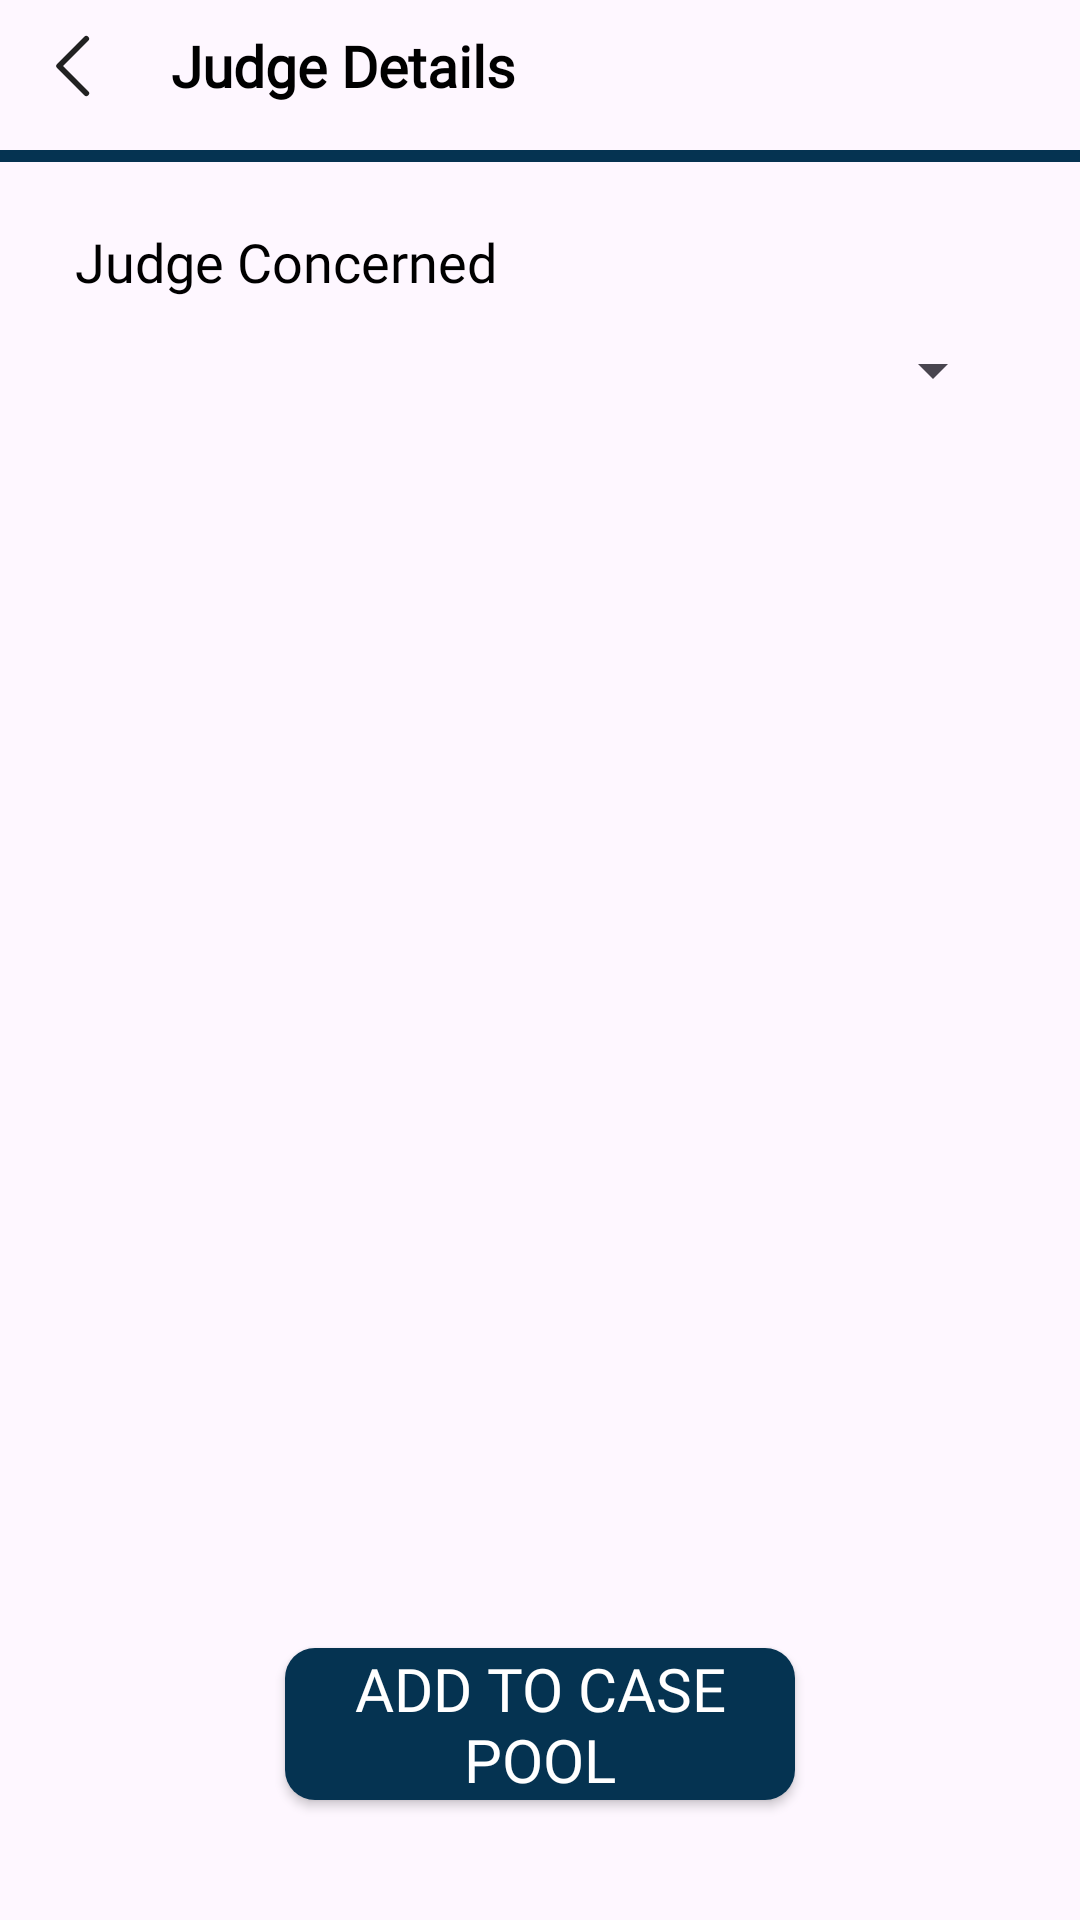

Screen size 1080 × 1920. Icon name, then its box in pixels as (x1, y1, x2, y2):
back: (56, 35, 90, 97)
